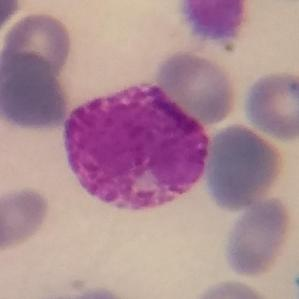Basophil: (62, 80, 214, 212)
Platelets: (178, 0, 251, 43)
RBC: (200, 120, 289, 212), (220, 194, 298, 281), (152, 49, 240, 125), (0, 52, 71, 133), (0, 10, 74, 81), (240, 68, 299, 142), (0, 184, 52, 252), (188, 277, 278, 299), (64, 284, 133, 299), (0, 0, 25, 39)
